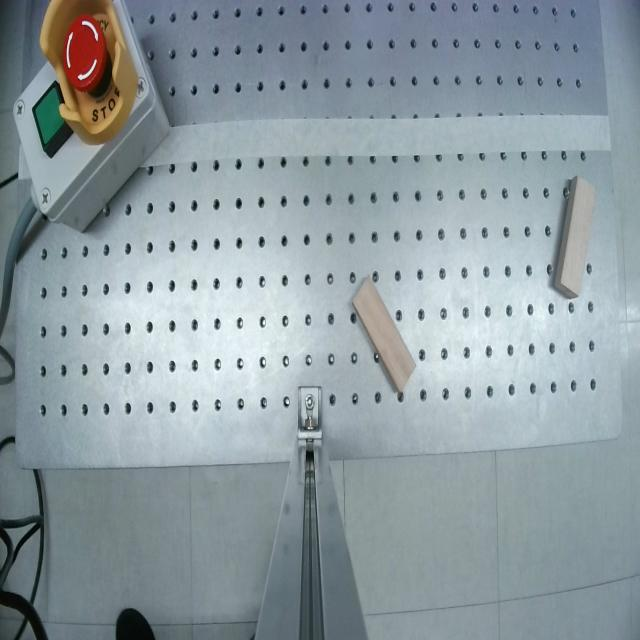wood: (345, 276, 424, 393), (559, 176, 597, 295)
